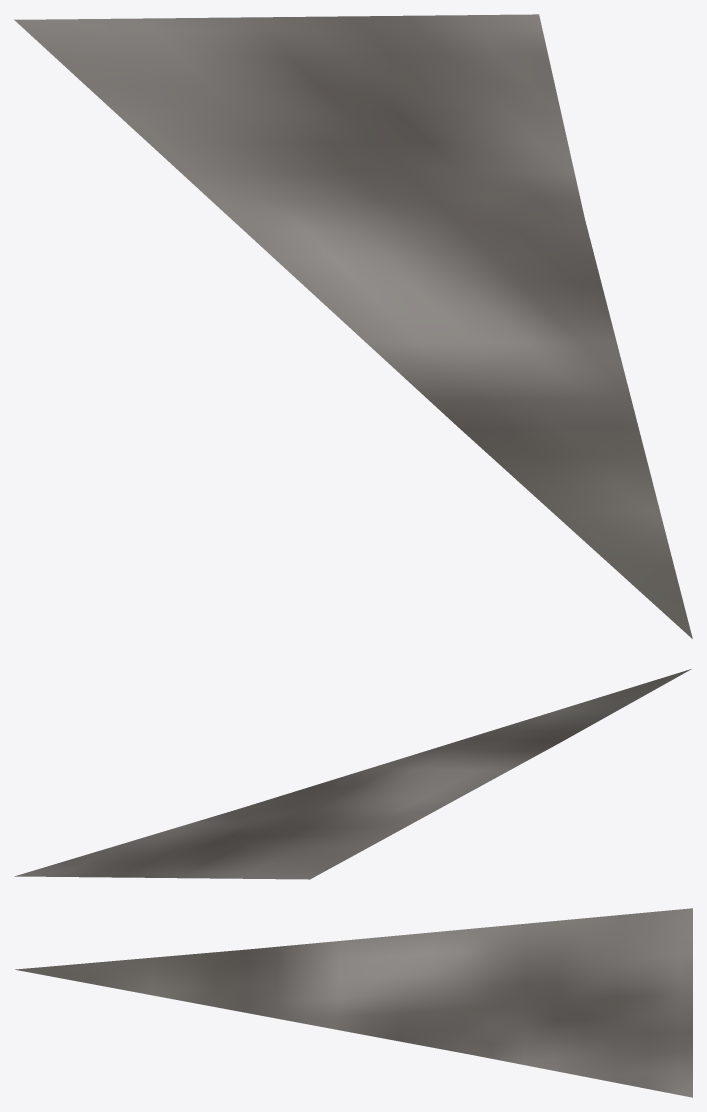
3 views of the same model, one above another, from view 1: azimuth 30°, elevation 25°; view 2: azimuth 150°, elevation 25°; view 3: azimuth 270°, elevation 25° (orthographic). The views are drawn at different scales.
Bounding box in the file's own units: 0.0311 × 0.00695 × 0.0697.
1 material, 1 textured.
